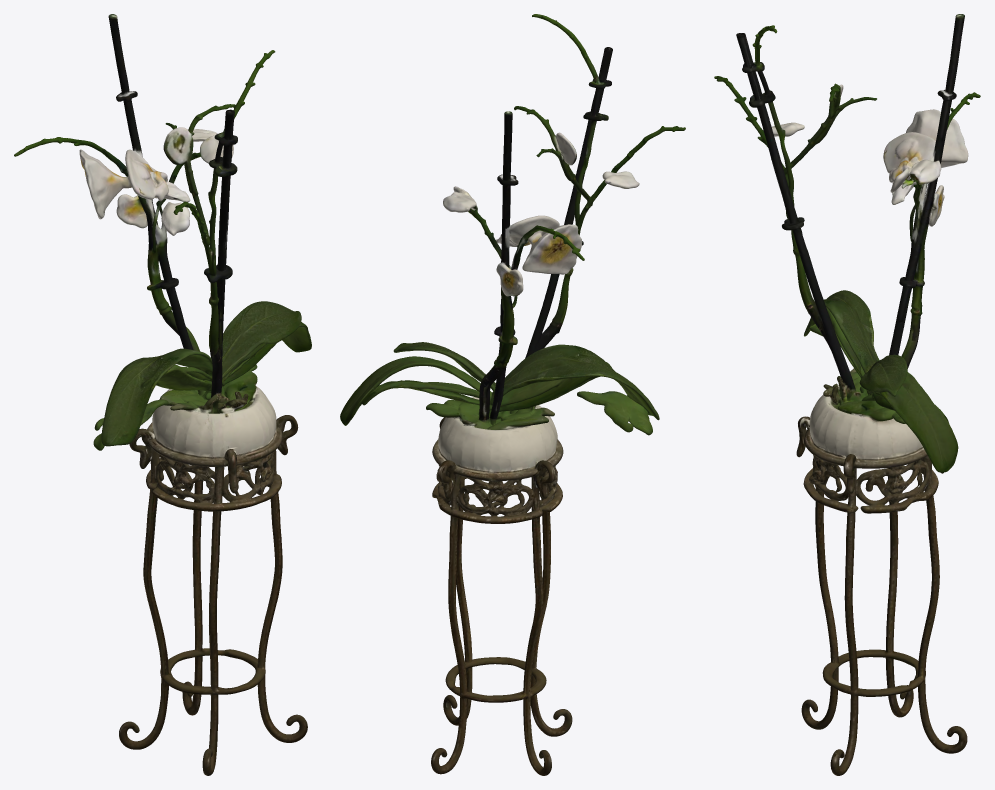
Rendered from plant.glb.
3 views of the same model, side by side, from view 1: azimuth 30°, elevation 25°; view 2: azimuth 150°, elevation 25°; view 3: azimuth 270°, elevation 25° (orthographic). The views are drawn at different scales.
Parts seen in each view (by area): view 1: tripo_node_e2a7bbf4-041d-44a6-bee4-a218fa9d803c; view 2: tripo_node_e2a7bbf4-041d-44a6-bee4-a218fa9d803c; view 3: tripo_node_e2a7bbf4-041d-44a6-bee4-a218fa9d803c.
Part boxes in pixels (<box>): tripo_node_e2a7bbf4-041d-44a6-bee4-a218fa9d803c: <box>14,14,311,775</box>; tripo_node_e2a7bbf4-041d-44a6-bee4-a218fa9d803c: <box>340,14,685,775</box>; tripo_node_e2a7bbf4-041d-44a6-bee4-a218fa9d803c: <box>714,14,980,775</box>.
Size of the model in its own units: 0.3959 by 0.9999 by 0.335.
1 material, 1 textured.
